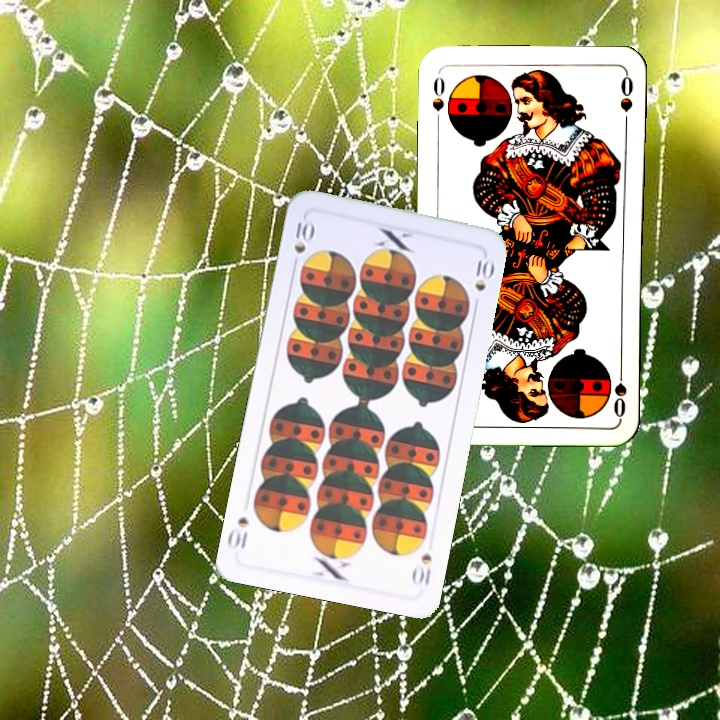S10: (288, 217, 317, 272), (408, 550, 434, 588)
SO: (609, 361, 629, 420), (429, 73, 448, 129)
